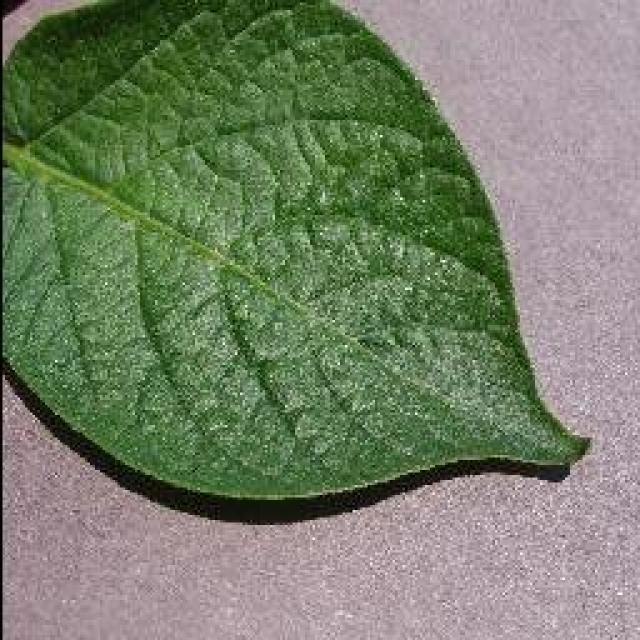Potato___healthy: (0, 0, 591, 498)
